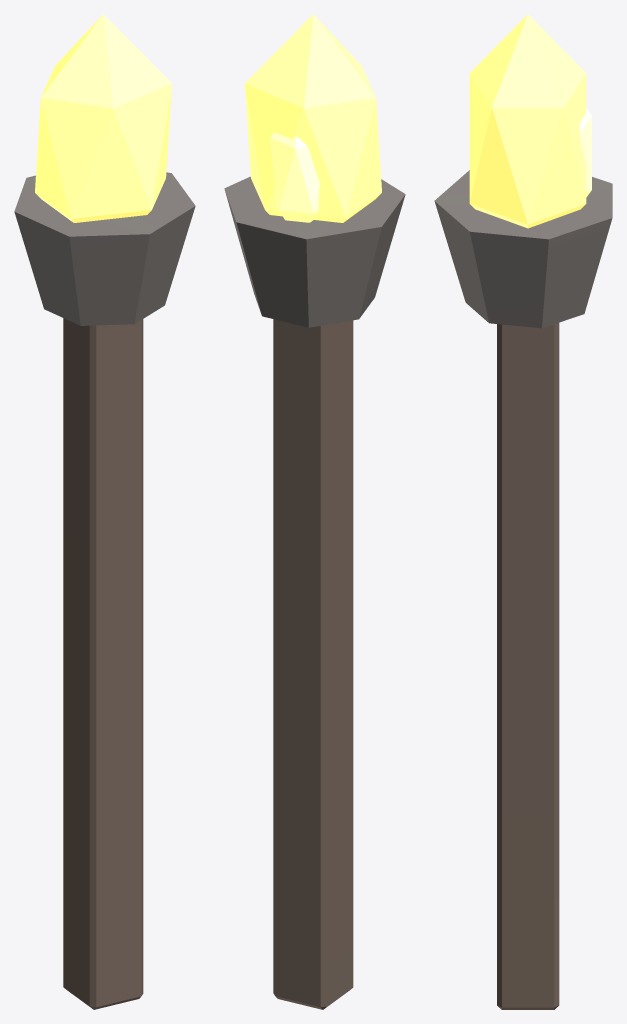
The model's file is BM_Torch.glb.
3 renders of one model, left to right at view 1: azimuth 30°, elevation 25°; view 2: azimuth 150°, elevation 25°; view 3: azimuth 270°, elevation 25°, orthographic.
Parts seen in each view (by area): view 1: Body, Flame; view 2: Body, Flame; view 3: Body, Flame.
Boxes of the visible parts, box(x1,y1,x2,y2) form: Body: box(14, 172, 195, 1009); Flame: box(35, 14, 171, 222); Body: box(224, 176, 405, 1009); Flame: box(245, 14, 381, 222); Body: box(434, 170, 612, 1009); Flame: box(469, 14, 591, 228).
Bounding box in the file's own units: 1.46 × 8.7 × 1.43.
